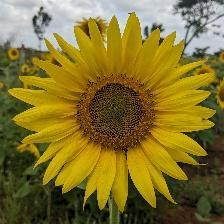sunflower: (7, 14, 217, 215)
